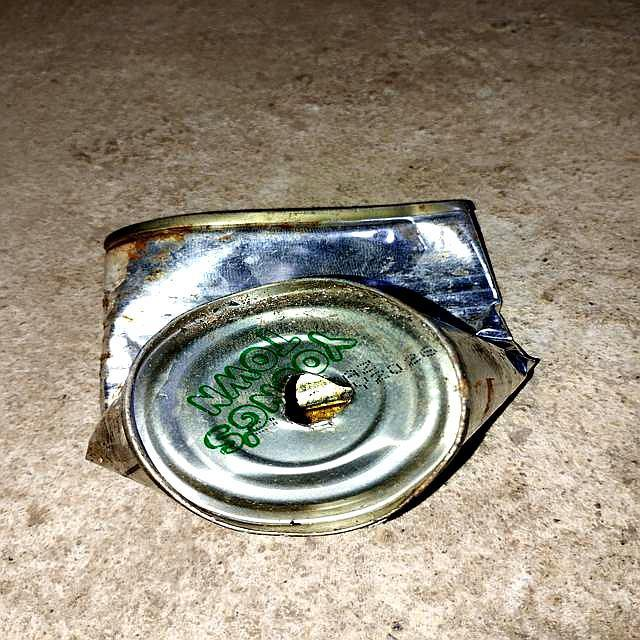Non-biodegradable: (86, 197, 540, 540)
